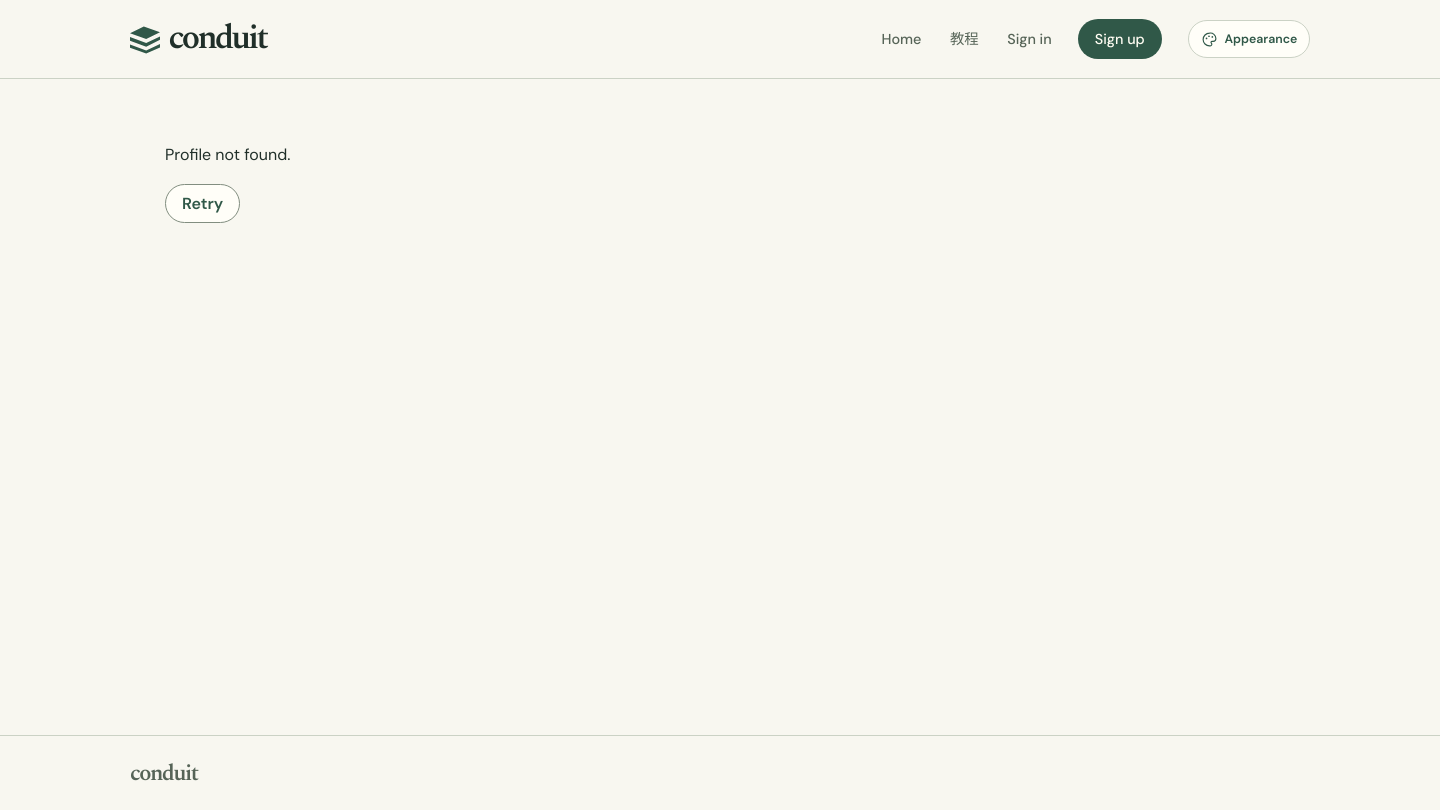
recovers when a profile request fails and never shows a different user on error
Expected: the message shows "not found", [165, 144, 290, 165]
What coordinates should you click on to do the following:
click the button "Retry"
I would click on:
 (203, 204)
Its box is [165, 184, 240, 223].
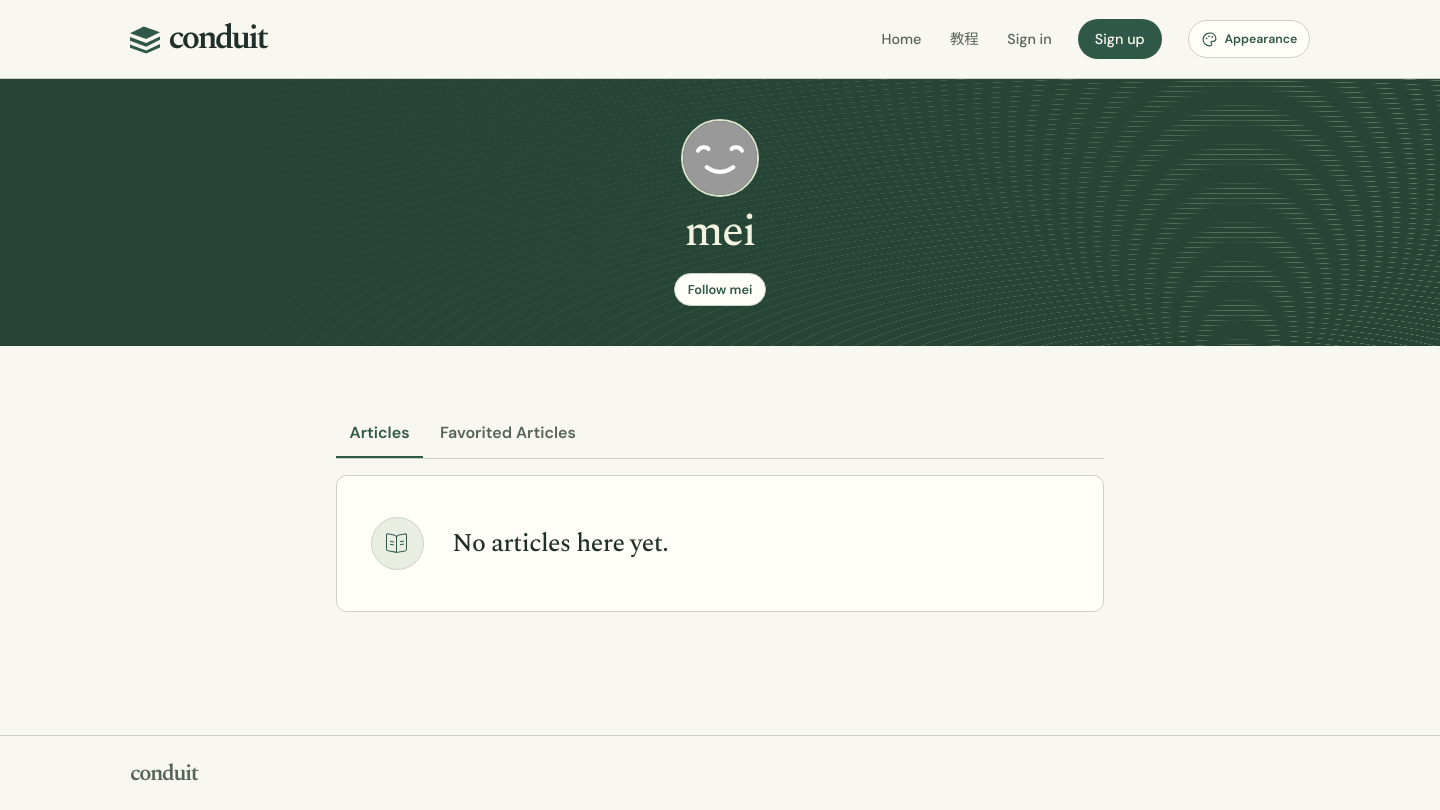
Expected: the heading "mei" is shown, [684, 207, 756, 259]
